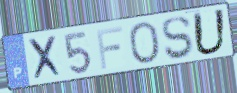5: (62, 29, 94, 76)
F: (95, 25, 125, 71)
O: (127, 20, 162, 65)
S: (160, 15, 194, 62)
U: (191, 7, 229, 57)
X: (26, 34, 66, 83)
